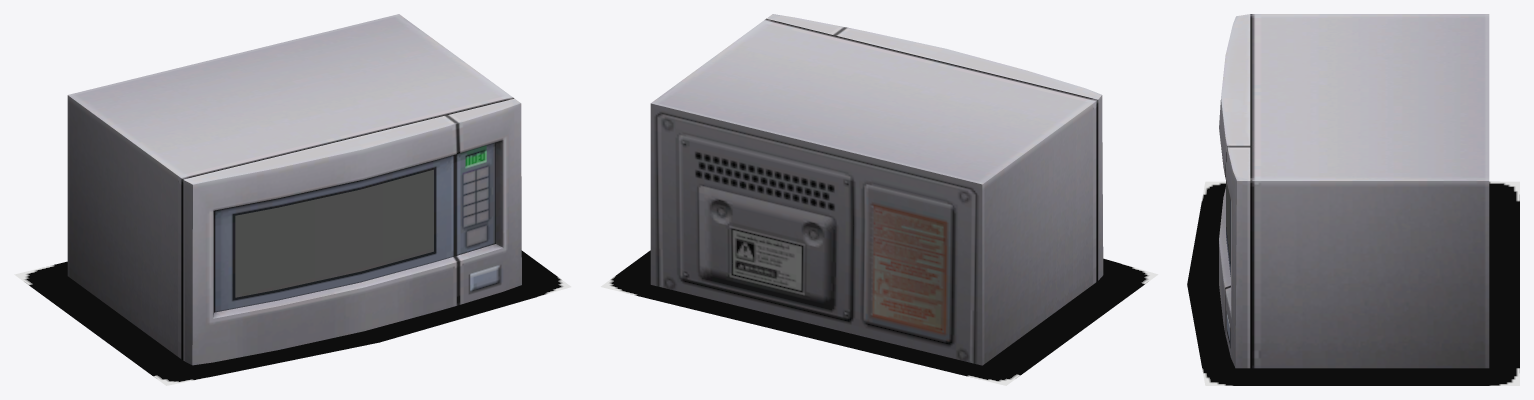
Rendered from jj_ty_weibolu01.FBX.
The picture shows the model from 3 angles, left to right: view 1: azimuth 30°, elevation 25°; view 2: azimuth 150°, elevation 25°; view 3: azimuth 270°, elevation 25°; orthographic projection. The views are drawn at different scales.
Parts seen in each view (by area): view 1: jj_ty_weibolu01, shadow; view 2: jj_ty_weibolu01, shadow; view 3: jj_ty_weibolu01, shadow.
Boxes of the visible parts, bbox=[...] form: jj_ty_weibolu01: bbox=[67, 14, 521, 365]; shadow: bbox=[14, 250, 571, 385]; jj_ty_weibolu01: bbox=[650, 14, 1103, 365]; shadow: bbox=[601, 250, 1158, 385]; jj_ty_weibolu01: bbox=[1219, 14, 1489, 368]; shadow: bbox=[1187, 181, 1519, 385].
Bounding box in the file's own units: 96.31 × 42.2 × 66.24.
